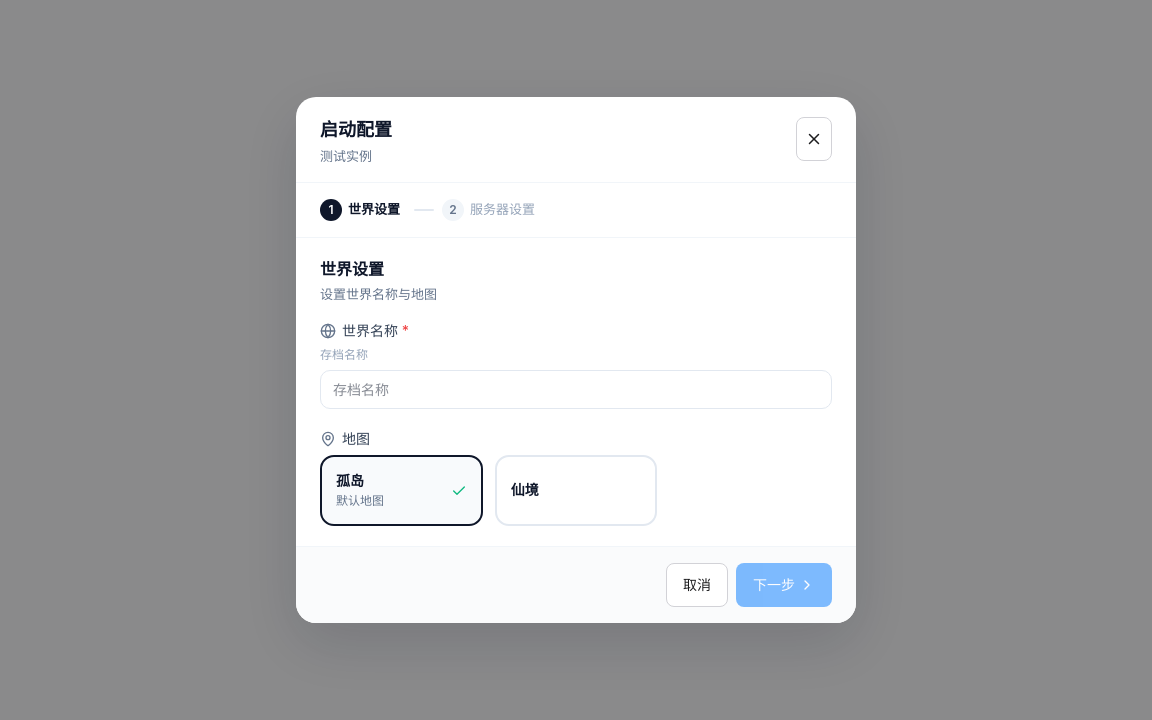
Test: StartupGuideWizard — 校验与步骤流转 › 必填字段未填写时「下一步」禁用（不推进），填写后放开
Expected: the button "下一步" is disabled, [736,563,832,607]
In the field labelled "世界名称 *": (576, 389) [320,370,832,409], type "我的世界"
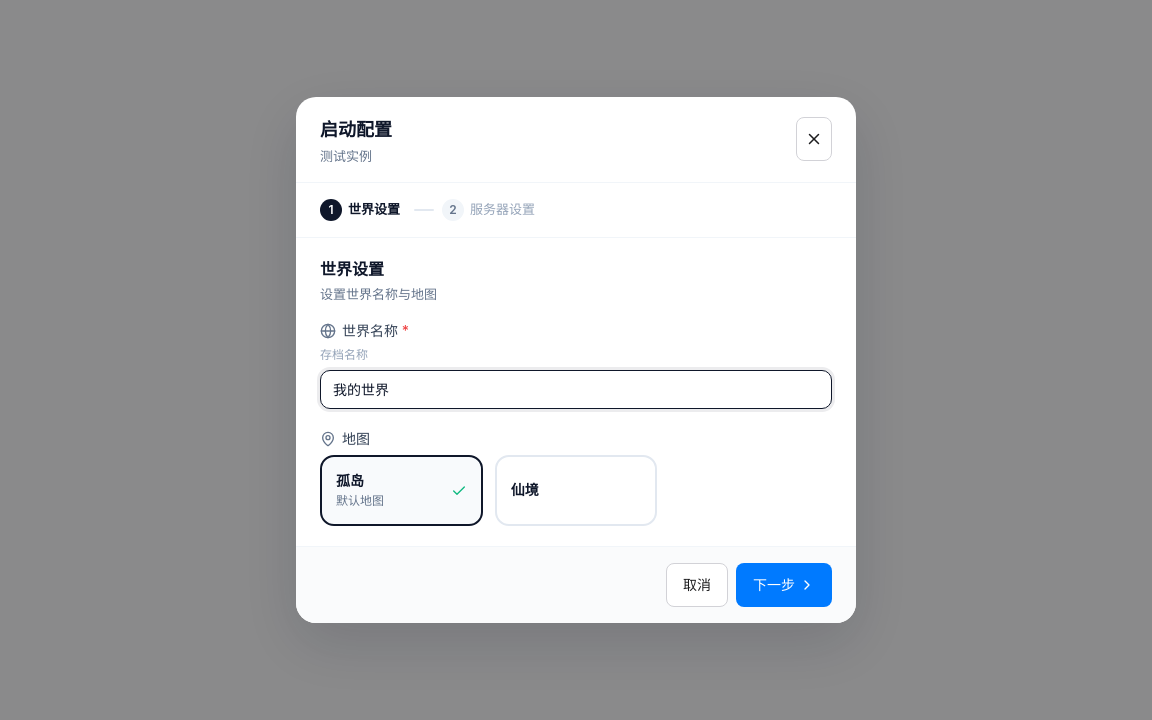
Now the button "下一步" is enabled, box [736,563,832,607]
